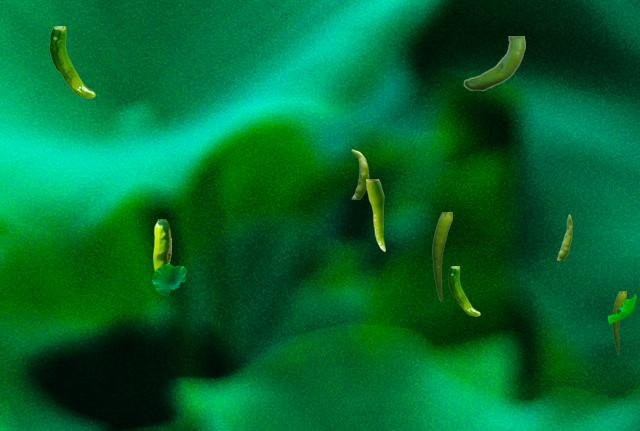green_chili: (463, 36, 524, 90), (49, 26, 94, 97), (432, 212, 451, 300), (448, 266, 479, 315), (366, 179, 384, 250), (153, 219, 170, 270), (351, 149, 368, 198), (612, 291, 625, 353), (557, 214, 571, 259)
